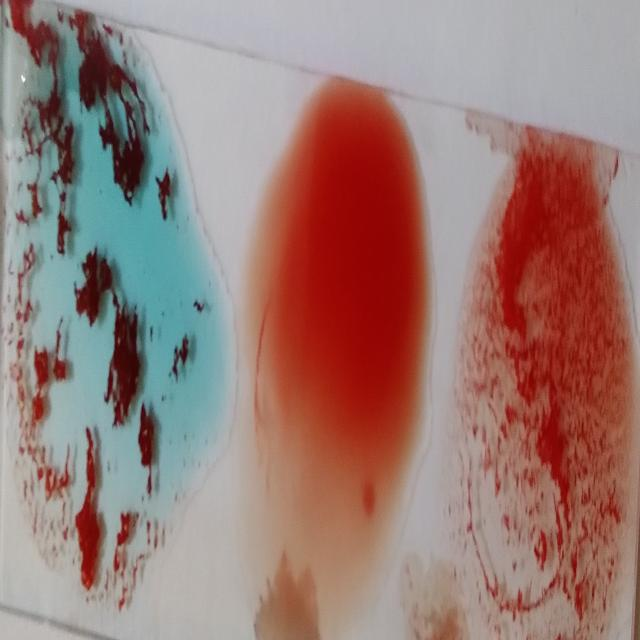A: (12, 8, 190, 595)
D: (473, 189, 634, 614)
